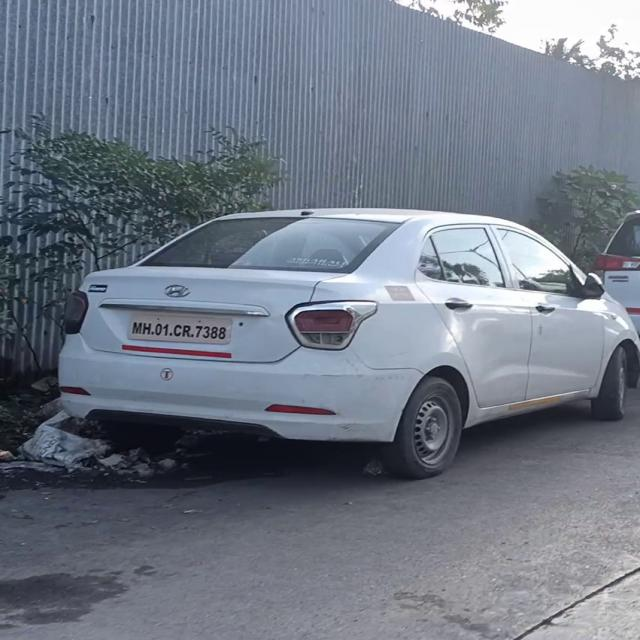Plate: (126, 312, 230, 347)
